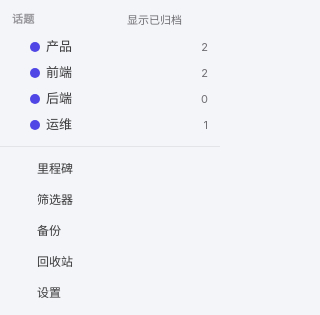
Test: 归档 › 归档后该话题与其子树的任务从看板/甘特图的数据源里消失
Right-click the list item with test id "topic-row-p" at (35, 47), box 8,34 -> 212,60
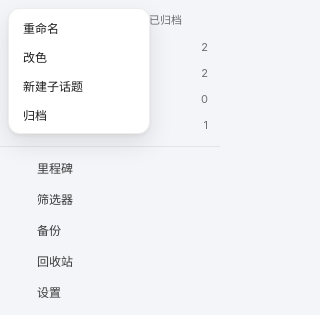
Click the menu item with test id "topic-menu-archive" at (79, 114), box 13,100 -> 145,129
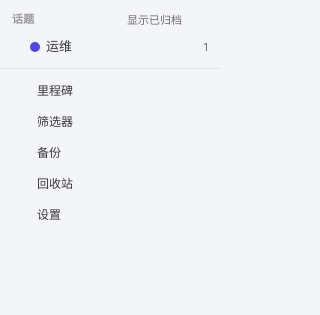
Expected: the list item with test id "topic-row-ops" is shown, 8,34 -> 212,60
Expected: the list item with test id "topic-row-p" is gone
Expected: the list item with test id "topic-row-p-fe" is gone
